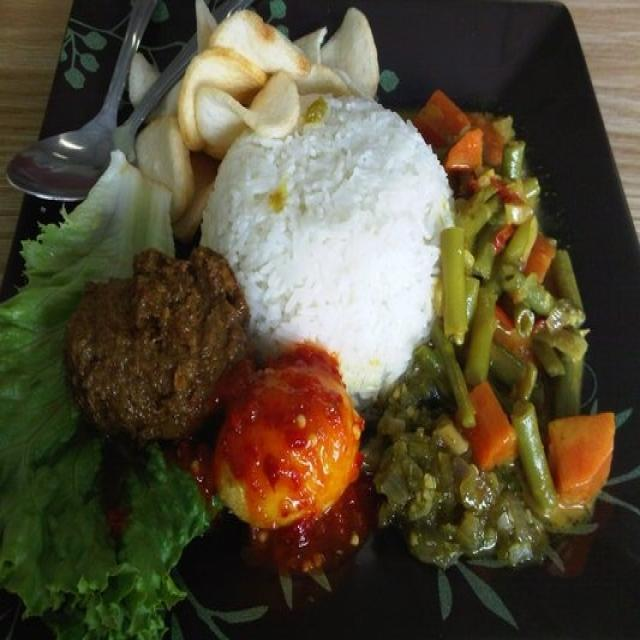米饭主食: (16, 12, 617, 610)
